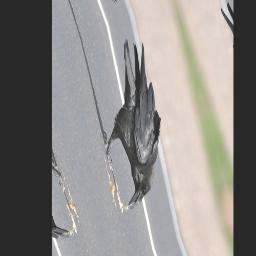Crow: (80, 31, 182, 213)
